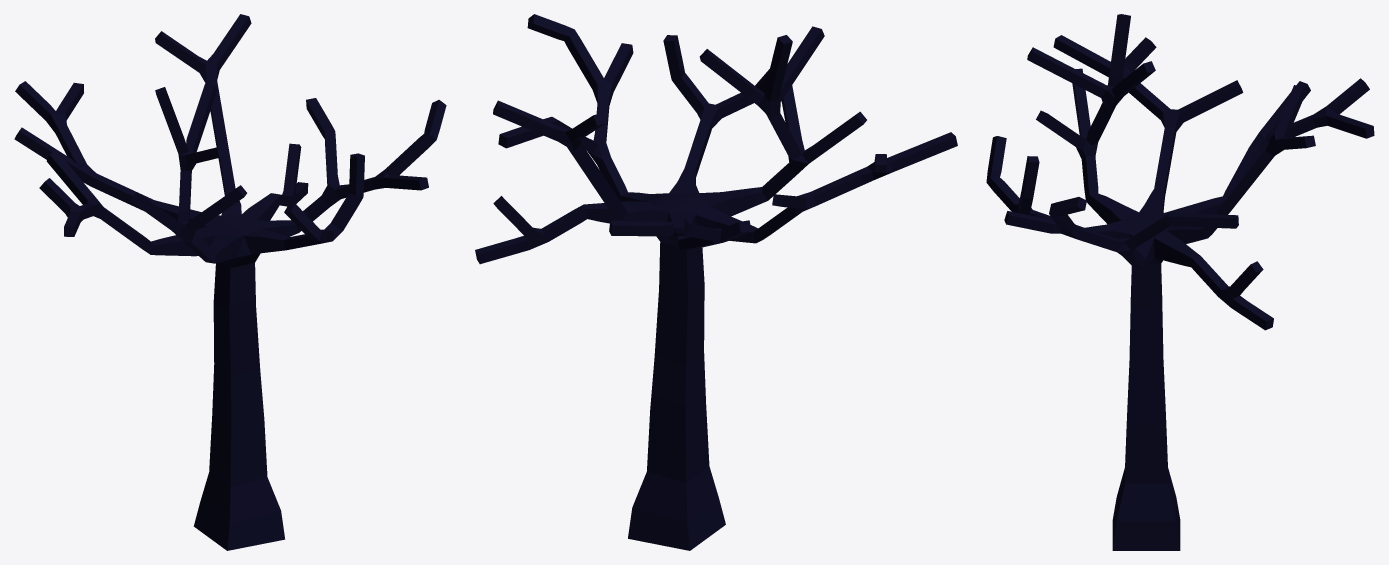
File: Arbol_5.fbx
The picture shows the model from 3 angles, left to right: view 1: azimuth 30°, elevation 25°; view 2: azimuth 150°, elevation 25°; view 3: azimuth 270°, elevation 25°; orthographic projection. The views are drawn at different scales.
Visible parts, largest first — view 1: Arbol_Marchito_G; view 2: Arbol_Marchito_G; view 3: Arbol_Marchito_G.
Part boxes in pixels (<box>): Arbol_Marchito_G: <box>14,14,446,550</box>; Arbol_Marchito_G: <box>475,14,957,550</box>; Arbol_Marchito_G: <box>986,14,1374,550</box>.
Size of the model in its own units: 3204 by 3717 by 2730.
